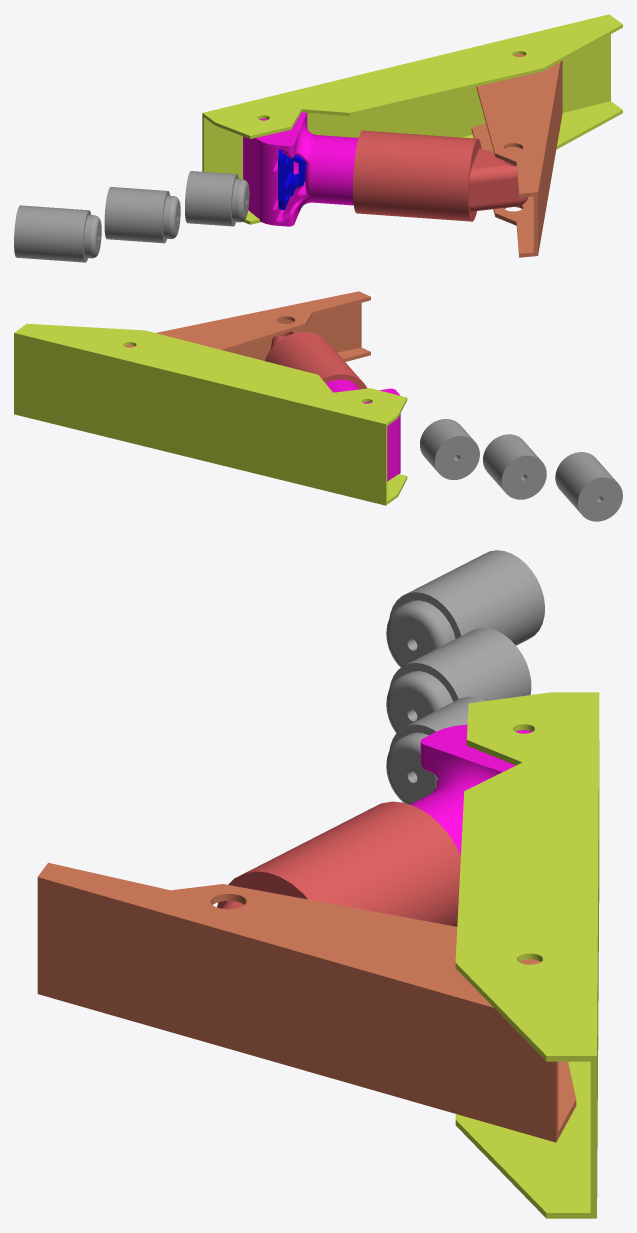
3 views of the same model, one above another, from view 1: azimuth 30°, elevation 25°; view 2: azimuth 150°, elevation 25°; view 3: azimuth 270°, elevation 25° (orthographic). The views are drawn at different scales.
Parts seen in each view (by area): view 1: Body1, Body1:2, Body1:1, Body1:3, Body12, Body11, Body10, 50kg load cell (1) (1), 50kg load cell (1); view 2: Body1, Body1:1, Body12, Body11, Body1:2, Body10, Body1:3; view 3: Body1:1, Body1, Body1:2, Body12, Body11, Body1:3, Body10.
Part boxes in pixels (x1,y1,x2,y2): Body1: (202,14,622,224); Body1:2: (353,130,528,221); Body1:1: (471,54,562,257); Body1:3: (243,112,358,226); Body12: (14,205,101,262); Body11: (104,187,180,243); Body10: (185,171,249,226); 50kg load cell (1) (1): (278,149,293,209); 50kg load cell (1): (287,155,306,195); Body1: (14,323,407,505); Body1:1: (124,291,370,361); Body12: (555,452,622,521); Body11: (483,434,546,499); Body1:2: (265,331,367,389); Body10: (420,419,479,479); Body1:3: (326,379,400,481); Body1:1: (37,862,576,1142); Body1: (455,692,599,1218); Body1:2: (217,801,460,926); Body12: (386,550,544,667); Body11: (386,628,531,732); Body1:3: (410,724,532,855); Body10: (386,696,485,804).
Bounding box in the file's own units: 311 × 41.9 × 131.
